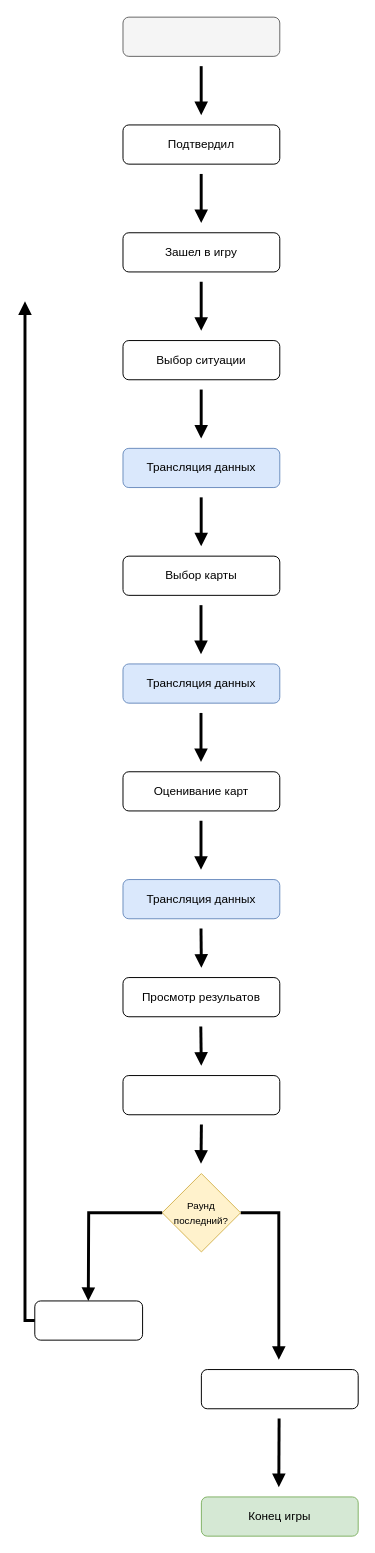
Some shapes in this 375 by 1553 pixel diagram are drawn without their labels. The box of each missing label's shape, as (x1, y1, x2, y2) in pixels:
Конец раунда: (122, 1075, 280, 1115)
Определение победителя: (200, 1369, 358, 1409)
Подтверждение готовности: (34, 1300, 143, 1340)
Создал игру: (122, 16, 280, 56)
